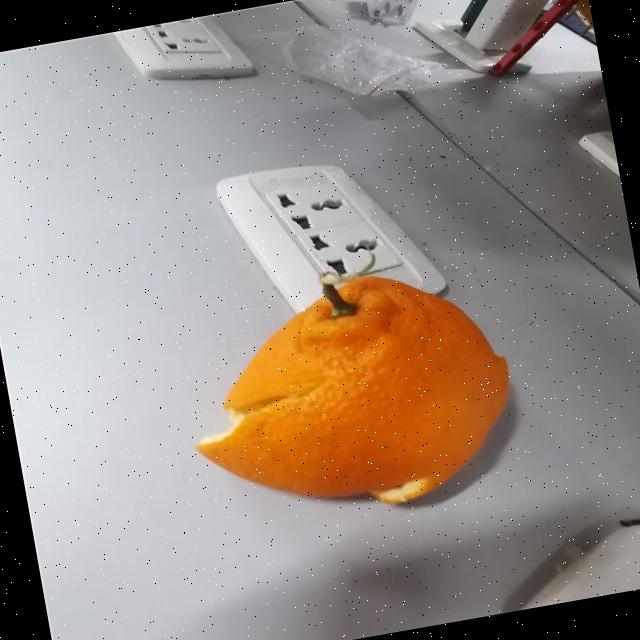orange-peel: (170, 251, 530, 538)
